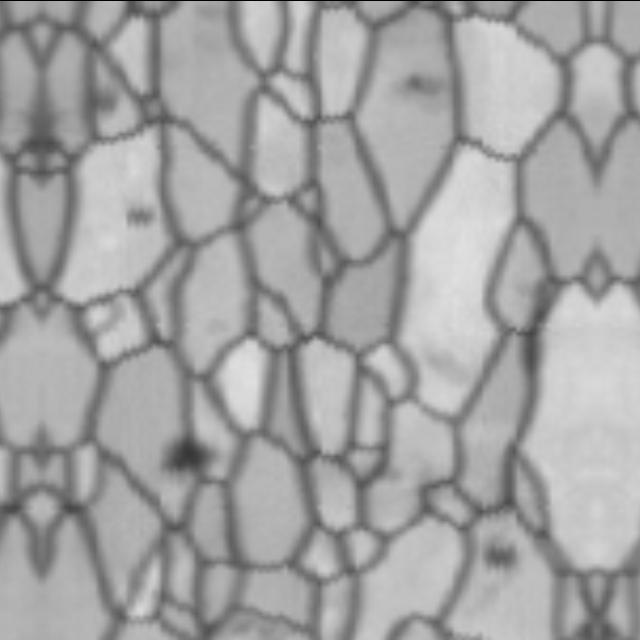good_void: (475, 518, 533, 585), (154, 431, 227, 484), (403, 63, 453, 99), (124, 193, 162, 229)
